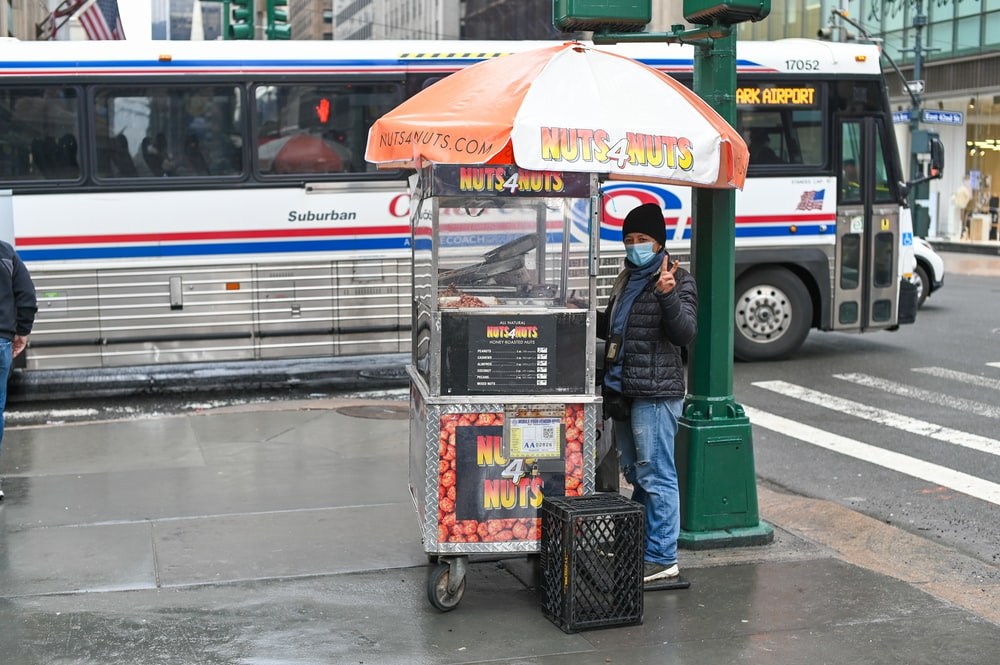bus: (4, 34, 918, 357)
cart: (391, 163, 599, 609)
person: (606, 205, 685, 583)
pole: (690, 186, 771, 549)
